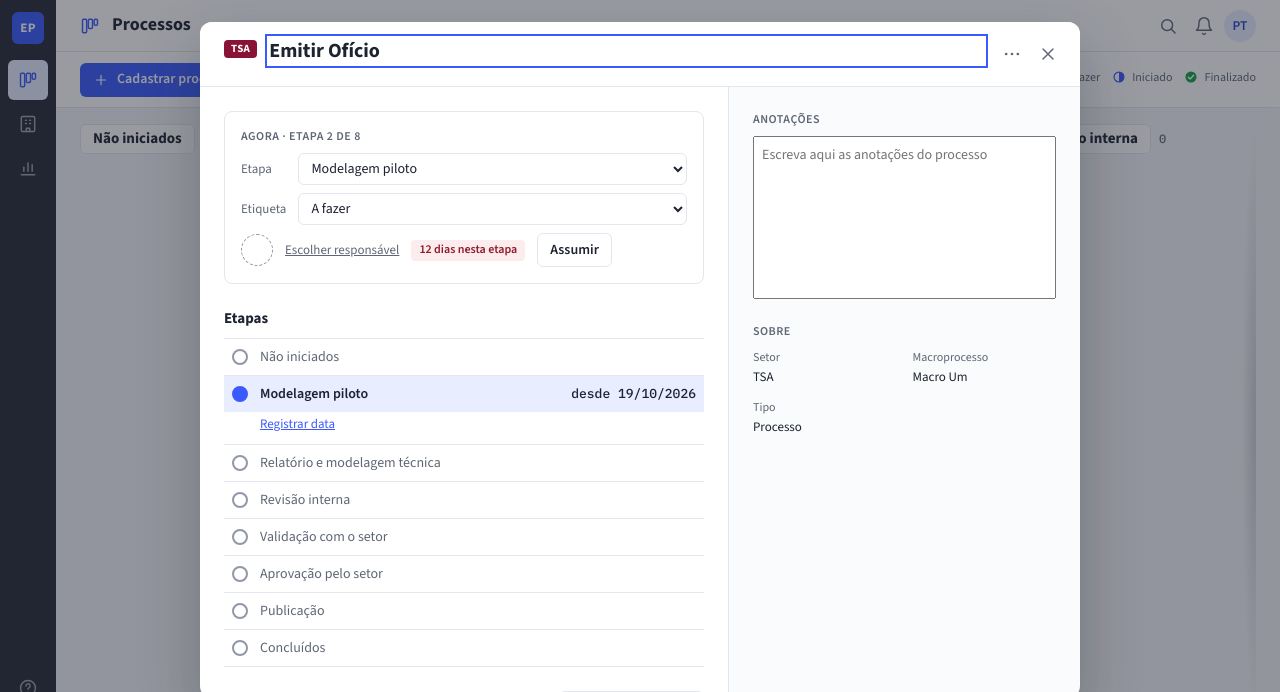
Test: [Avançar mesmo assim] move na hora, sem enviar nada, e a janela fecha
Select "Relatório e modelagem técnica" in the dropdown labelled "Etapa" at coordinates (493, 169), box [298,153,687,185]
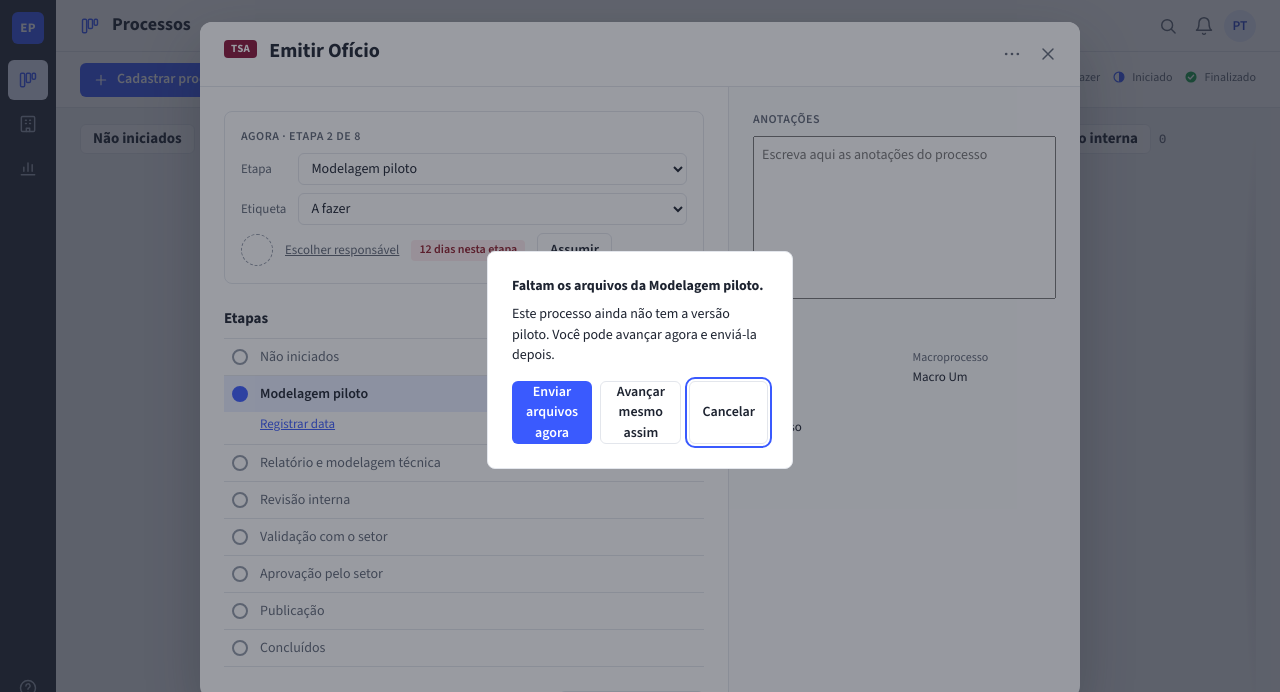
Click the button "Avançar mesmo assim" at coordinates (641, 413), box [600,381,681,444]
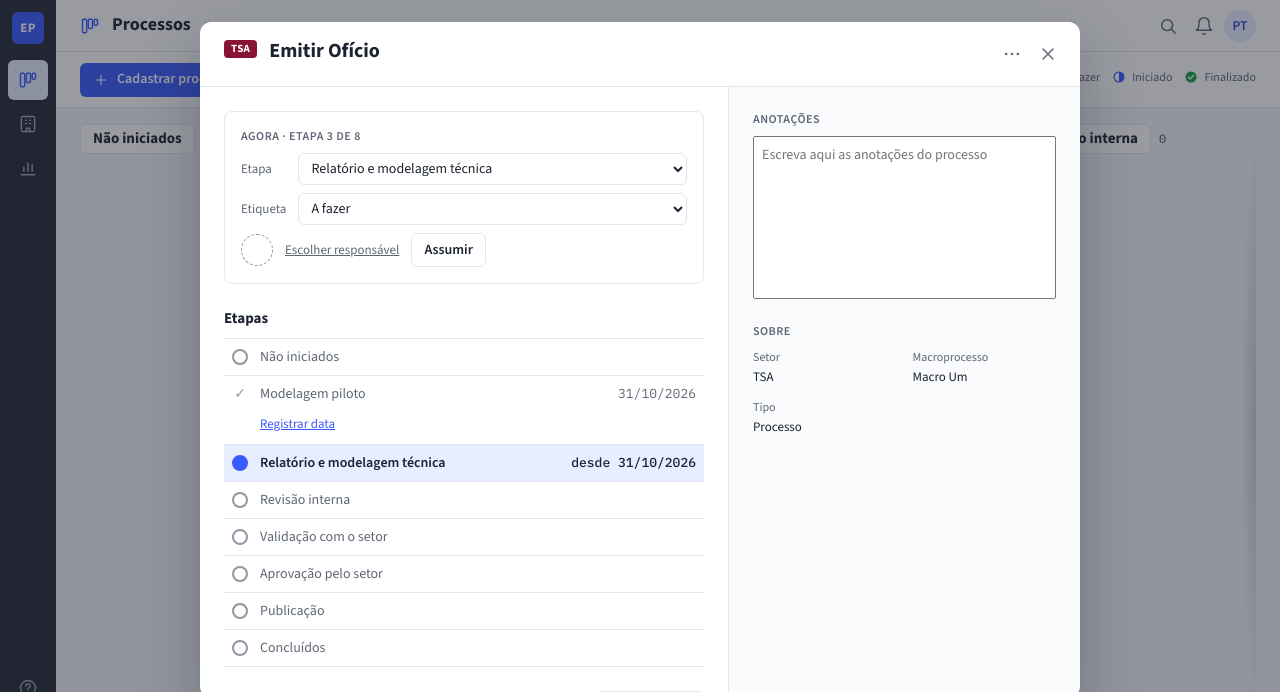
Expected: the heading "Faltam os arquivos da Modelagem piloto." is gone
